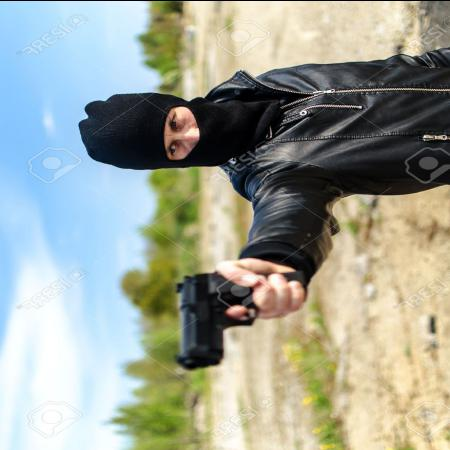Pistol: (173, 260, 306, 370)
